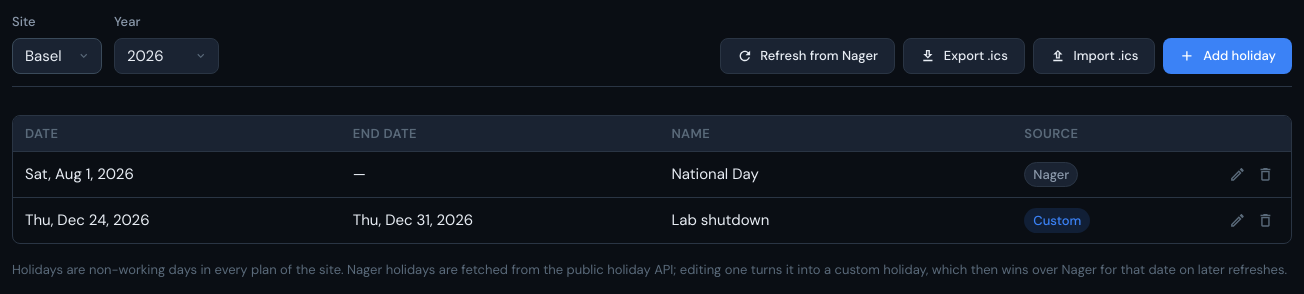
Test case: BankHolidaysPanel list › switches site, showing the empty state and disabling Nager without a country
Expected: the text "National Day" is shown, [659,152,1012,197]
Select "Zurich" in the dropdown labelled "Site" at (57, 56), box [12,38,102,74]
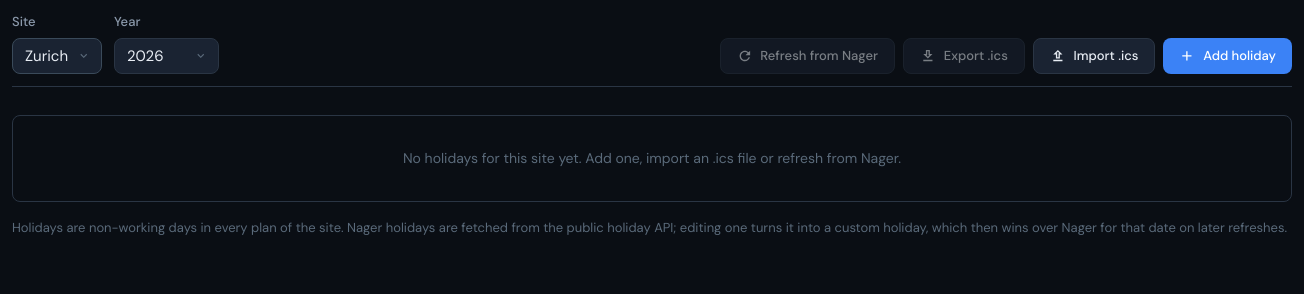
Expected: the text "No holidays for this site yet. Add one, import an .ics file or refresh from Nager." is shown, [403,148,901,166]
Expected: the button "Refresh from Nager" is disabled, [720,38,895,74]
Expected: the button "Export .ics" is disabled, [903,38,1025,74]
